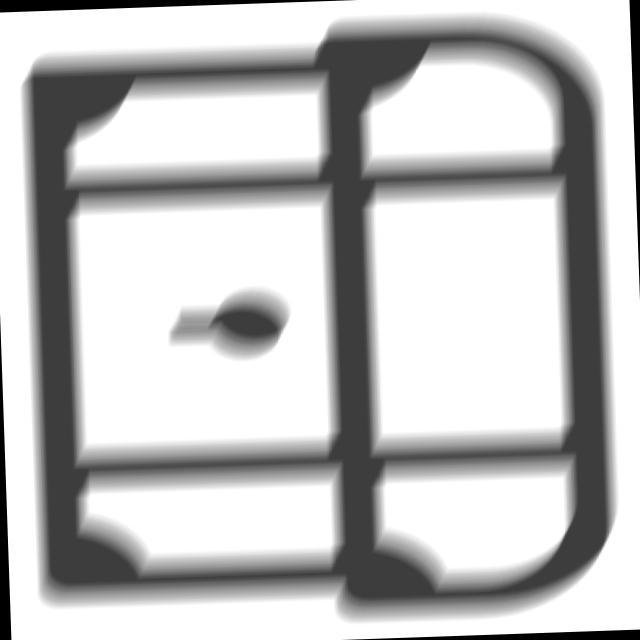treasure_box: (18, 1, 633, 640)
